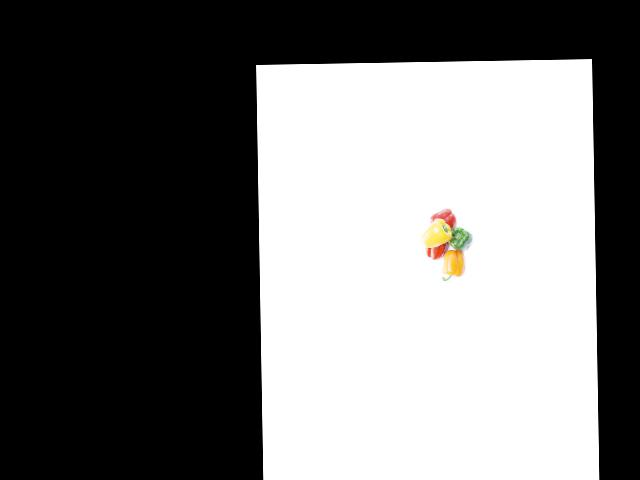bell_pepper: (442, 221, 476, 252)
